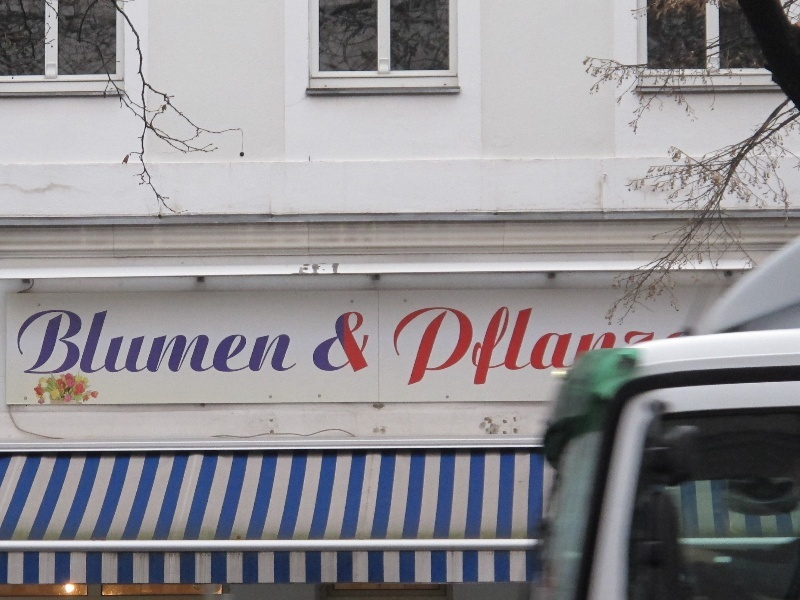text: (401, 301, 416, 387), (417, 301, 432, 387), (433, 301, 448, 387), (449, 301, 464, 387), (465, 301, 480, 387), (481, 301, 496, 387), (497, 301, 512, 387), (513, 301, 528, 387), (529, 301, 544, 387), (545, 301, 560, 387), (561, 301, 576, 387), (17, 307, 32, 378), (33, 307, 48, 378), (49, 307, 64, 378), (65, 307, 80, 378), (81, 307, 96, 378), (97, 307, 112, 378), (113, 307, 128, 378), (129, 307, 144, 378), (145, 307, 160, 378), (161, 307, 176, 378), (177, 307, 192, 378), (193, 307, 208, 378), (209, 307, 224, 378), (225, 307, 240, 378), (241, 307, 256, 378), (257, 307, 272, 378), (273, 307, 288, 378), (321, 310, 336, 375), (337, 310, 352, 375), (353, 310, 368, 375), (289, 307, 297, 378), (593, 328, 608, 361), (609, 328, 624, 361), (625, 328, 640, 361), (641, 328, 656, 361), (579, 328, 592, 361), (369, 310, 373, 375), (397, 301, 400, 387), (318, 310, 320, 375), (577, 301, 578, 387), (657, 328, 659, 361)
